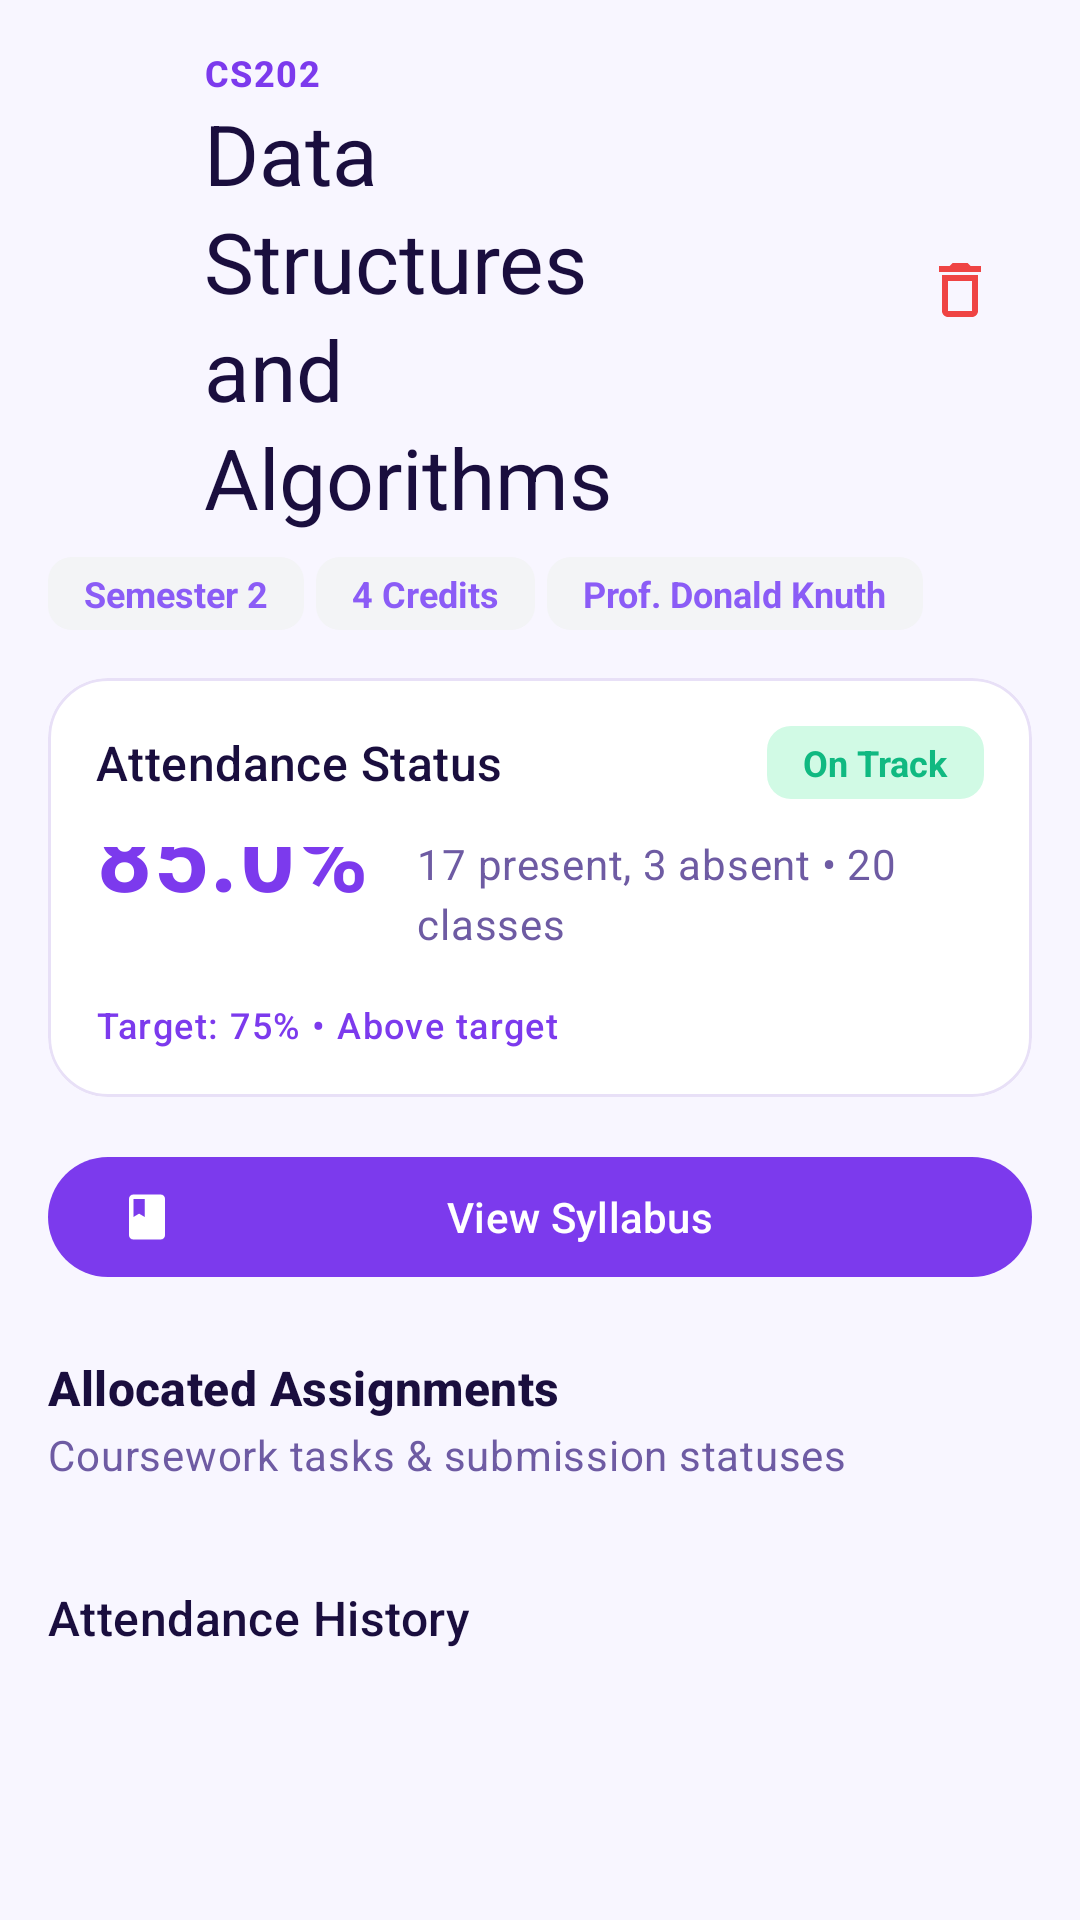

Where icons sit on this 1080px x 1920px app screen, as {"x1": x1, "y1": y1, "x2": x2, "y2": y2}:
Delete: {"x1": 939, "y1": 263, "x2": 981, "y2": 317}
